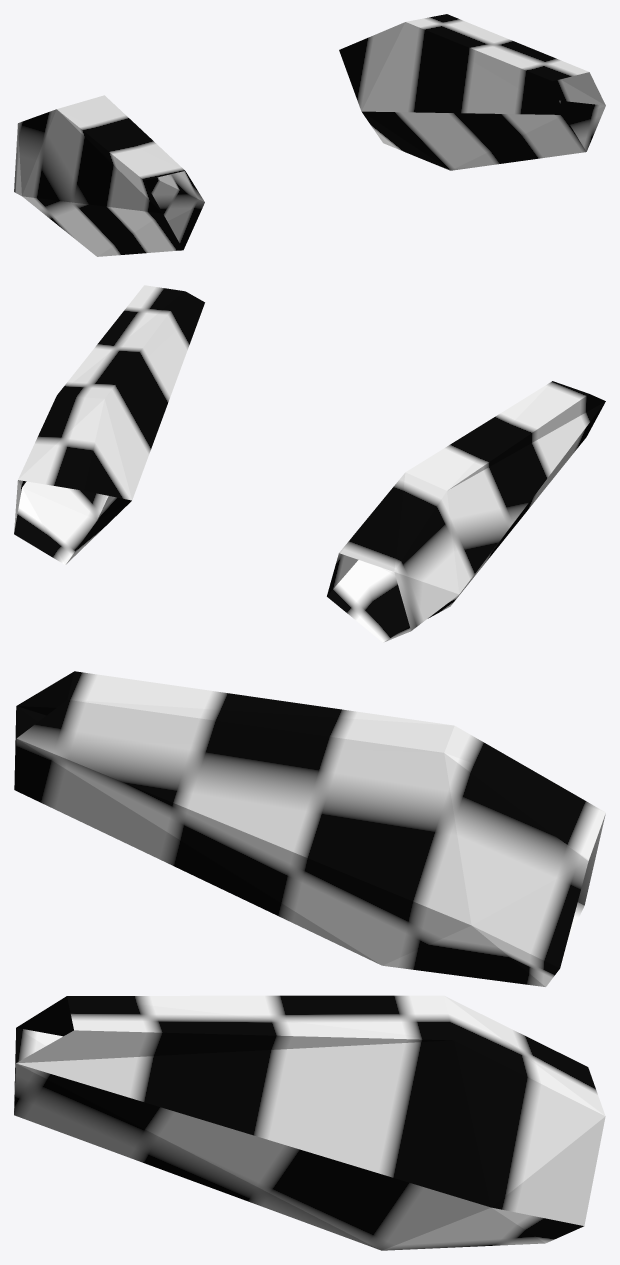
Rendered from initargl15.dae.
3 views of the same model, one above another, from view 1: azimuth 30°, elevation 25°; view 2: azimuth 150°, elevation 25°; view 3: azimuth 270°, elevation 25° (orthographic). The views are drawn at different scales.
Parts seen in each view (by area): view 1: armor; view 2: armor; view 3: armor.
Part boxes in pixels (left/top/right/bottom): armor: left=14, top=14, right=605, bottom=256; armor: left=14, top=285, right=605, bottom=642; armor: left=14, top=671, right=605, bottom=1250.
Size of the model in its own units: 1.18 by 0.8247 by 0.4111.
Materials: 1 (1 with a texture image).
